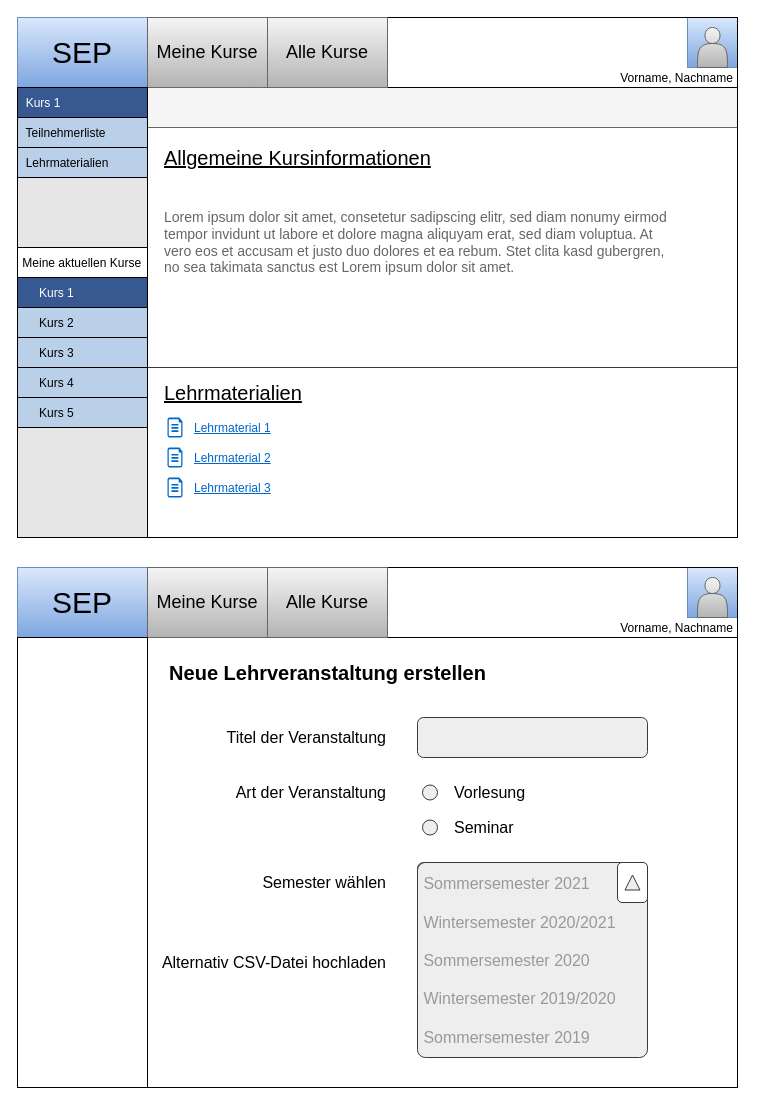
The diagram is 759 pixels wide and 1105 high, and some of its shapes have lost their labels. Each missing label, with the box of its shape:
Kurs 1 - Semester: (146, 86, 738, 128)
Sidebar? (Liste eigener Kurse in diesem Semester?): (16, 636, 148, 1088)
Titel eingeben...: (416, 716, 648, 758)
